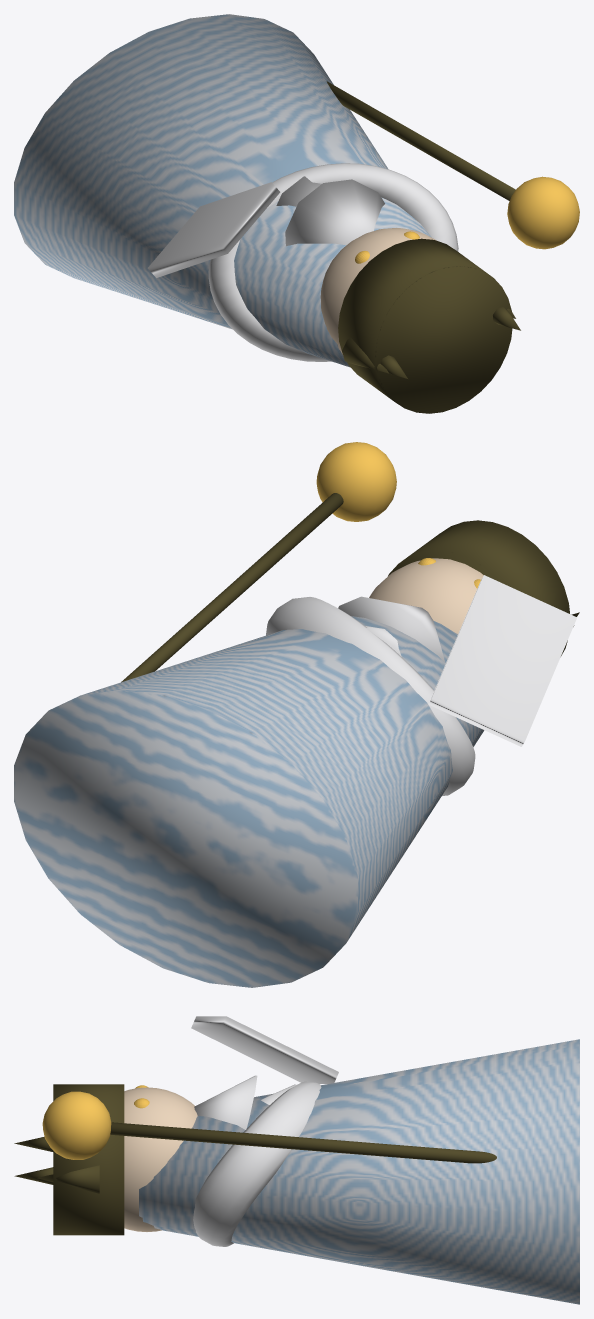
Rendered from 03_enki_var_celestial.obj.
3 views of the same model, one above another, from view 1: azimuth 30°, elevation 25°; view 2: azimuth 150°, elevation 25°; view 3: azimuth 270°, elevation 25° (orthographic). The views are drawn at different scales.
Visible parts, largest first — view 1: Cone, Cylinder, Torus, Cube, Cone.005, Icosphere, Sphere, Cylinder.001, Cone.006, Cone.003; view 2: Cone, Cube, Cylinder, Torus, Icosphere, Sphere, Cylinder.001, Cone.005; view 3: Cone, Torus, Cylinder, Sphere, Cylinder.001, Icosphere, Cube, Cone.005, Cone.001.
Part boxes in pixels (left/top/right/bottom): Cone: left=14, top=14, right=431, bottom=367; Cylinder: left=338, top=238, right=512, bottom=413; Torus: left=208, top=163, right=458, bottom=361; Cube: left=147, top=182, right=280, bottom=277; Cone.005: left=285, top=179, right=384, bottom=246; Icosphere: left=507, top=176, right=579, bottom=249; Sphere: left=320, top=228, right=436, bottom=354; Cylinder.001: left=326, top=81, right=515, bottom=200; Cone.006: left=276, top=176, right=321, bottom=206; Cone.003: left=342, top=338, right=388, bottom=373; Cone: left=14, top=616, right=484, bottom=987; Cube: left=428, top=575, right=577, bottom=746; Cylinder: left=388, top=520, right=569, bottom=655; Torus: left=266, top=597, right=475, bottom=795; Icosphere: left=316, top=442, right=396, bottom=521; Sphere: left=369, top=558, right=483, bottom=633; Cylinder.001: left=121, top=493, right=343, bottom=682; Cone.005: left=338, top=596, right=444, bottom=661; Cone: left=139, top=1039, right=579, bottom=1304; Torus: left=193, top=1081, right=321, bottom=1246; Cylinder: left=53, top=1084, right=124, bottom=1235; Sphere: left=124, top=1087, right=197, bottom=1231; Cylinder.001: left=110, top=1122, right=496, bottom=1163; Icosphere: left=42, top=1091, right=111, bottom=1159; Cube: left=191, top=1016, right=338, bottom=1083; Cone.005: left=194, top=1075, right=257, bottom=1129; Cone.001: left=37, top=1165, right=99, bottom=1193.
Bounding box in the file's own units: 2.23 × 1.73 × 3.6.
18 materials, 18 textured.
